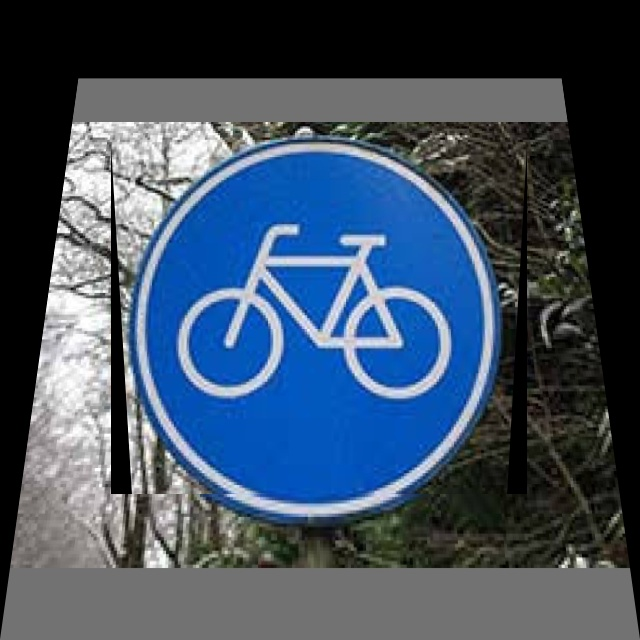Compulsory_Cycle_Track: (111, 145, 527, 494)
